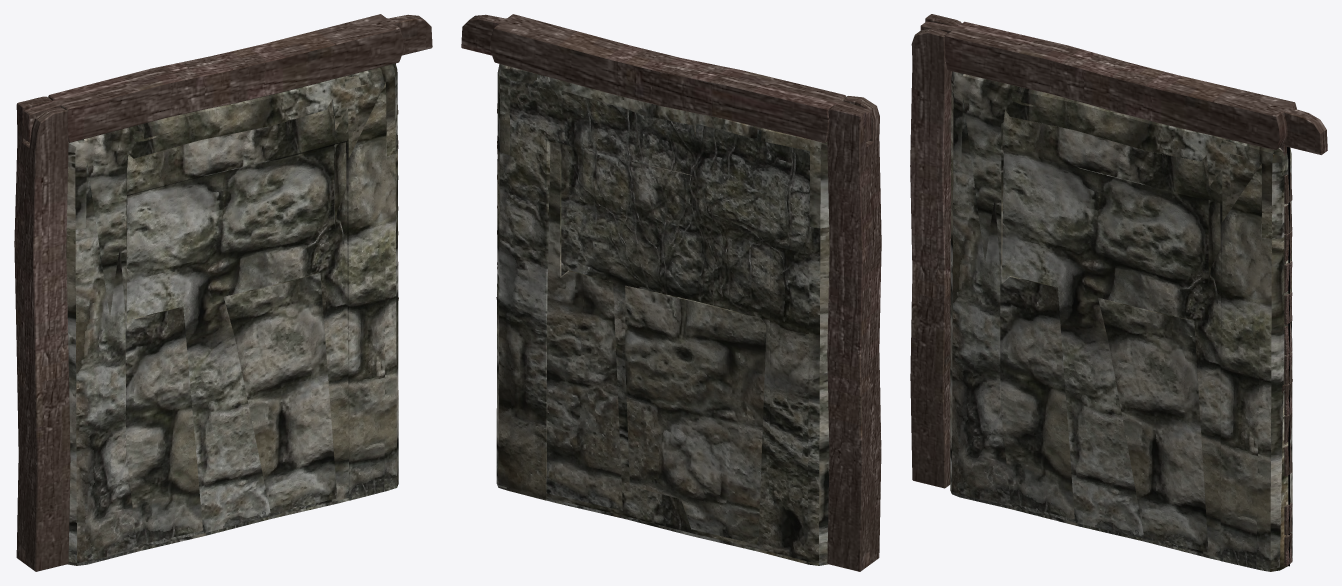
Rendered from assetpack test.FBX.
3 renders of one model, left to right at view 1: azimuth 30°, elevation 25°; view 2: azimuth 150°, elevation 25°; view 3: azimuth 330°, elevation 25°, orthographic.
Visible parts, largest first — view 1: rock-wall-high001, rock-wall-high-window001, rock-wall-high-door001, hightbeam001, crossbeam_W1x001; view 2: rock-wall-high-window001, rock-wall-high001, rock-wall-high-door001, hightbeam001, crossbeam_W1x001; view 3: rock-wall-high001, rock-wall-high-window001, rock-wall-high-door001, crossbeam_W1x001, hightbeam001.
Boxes of the visible parts, <box> form: rock-wall-high001: <box>66,93,398,562</box>; rock-wall-high-window001: <box>66,63,398,565</box>; rock-wall-high-door001: <box>87,75,388,563</box>; hightbeam001: <box>14,96,70,571</box>; crossbeam_W1x001: <box>23,14,432,142</box>; rock-wall-high-window001: <box>496,64,829,565</box>; rock-wall-high001: <box>496,90,829,562</box>; rock-wall-high-door001: <box>496,75,828,565</box>; hightbeam001: <box>827,96,881,571</box>; crossbeam_W1x001: <box>461,14,871,142</box>; rock-wall-high001: <box>950,98,1292,568</box>; rock-wall-high-window001: <box>950,71,1291,571</box>; rock-wall-high-door001: <box>960,90,1292,569</box>; crossbeam_W1x001: <box>920,21,1327,154</box>; hightbeam001: <box>910,14,961,488</box>.
Size of what is drawn, in the model's own units: 24.3 by 26.17 by 2.41.
